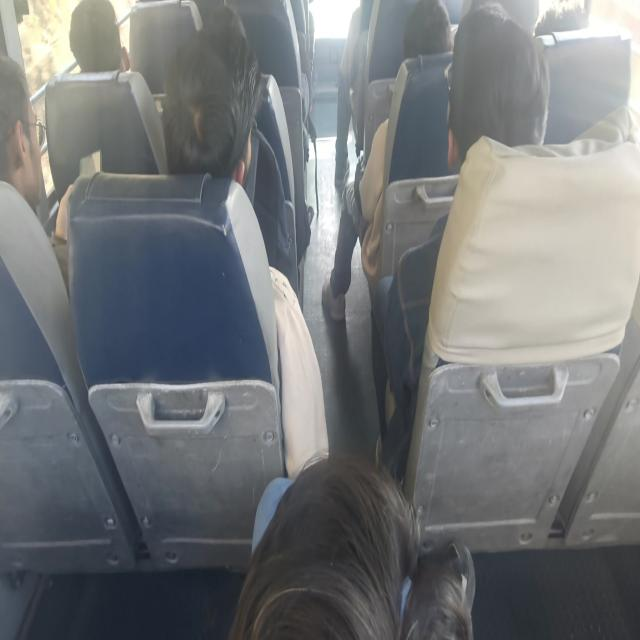person: (265, 441, 491, 640), (465, 12, 554, 146), (176, 48, 247, 196), (0, 91, 66, 196), (59, 0, 126, 89), (392, 12, 464, 83), (192, 0, 248, 33), (556, 0, 595, 37)
